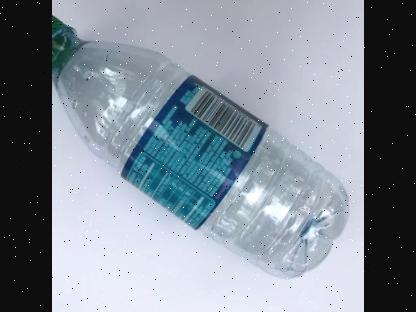Plastic Bottle: (52, 4, 350, 280)
